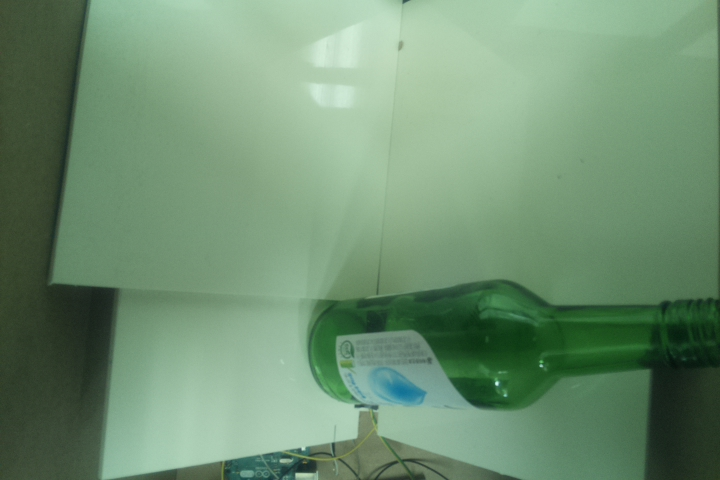soju: (308, 277, 720, 413)
